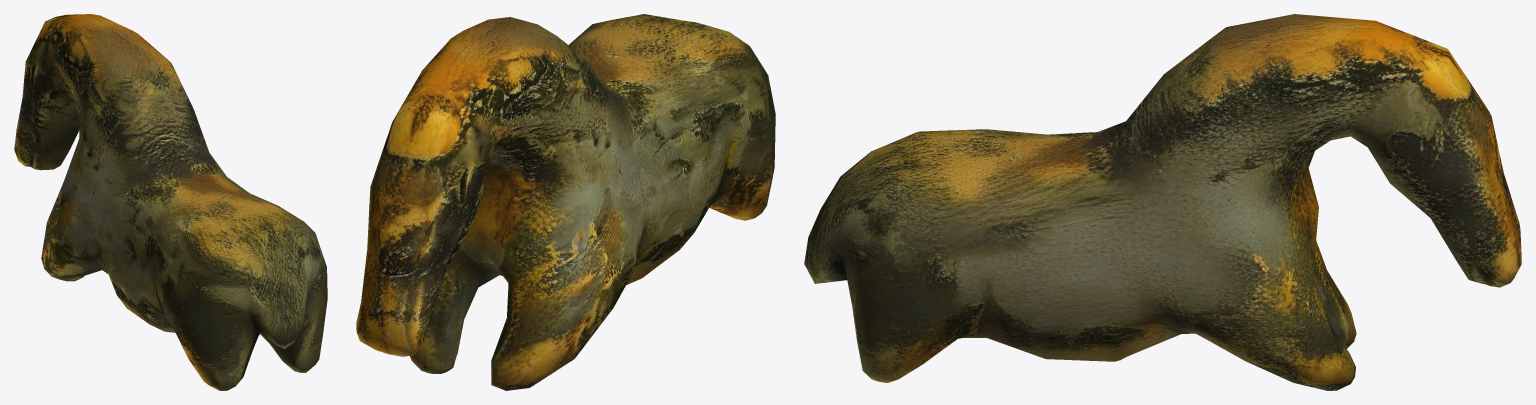
Rendered from  Cavalo_Vogelherd.glb.
3 renders of one model, left to right at view 1: azimuth 30°, elevation 25°; view 2: azimuth 150°, elevation 25°; view 3: azimuth 270°, elevation 25°, orthographic. The views are drawn at different scales.
Parts seen in each view (by area): view 1: tripo_node_fe16b119; view 2: tripo_node_fe16b119; view 3: tripo_node_fe16b119.
Part boxes in pixels (x1=…): tripo_node_fe16b119: x1=14, y1=14, x2=327, y2=390; tripo_node_fe16b119: x1=356, y1=14, x2=775, y2=390; tripo_node_fe16b119: x1=804, y1=14, x2=1521, y2=390.
Bounding box in the file's own units: 0.3337 × 0.5275 × 0.9952.
1 material, 1 textured.
